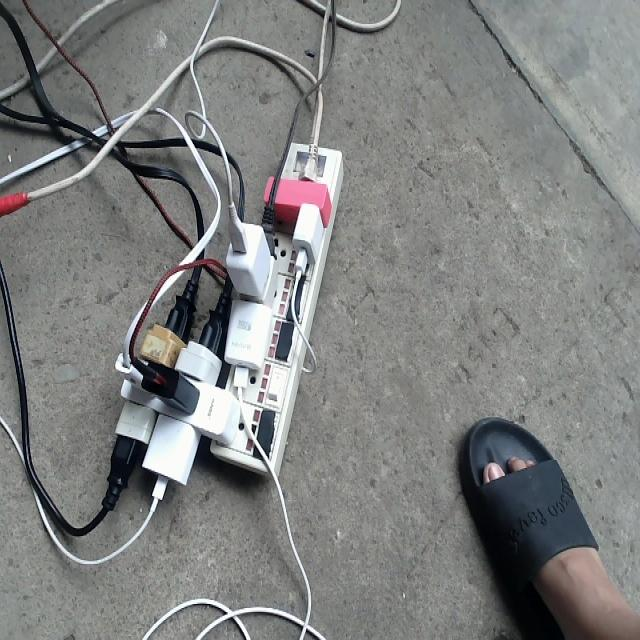-: (103, 141, 341, 511)
